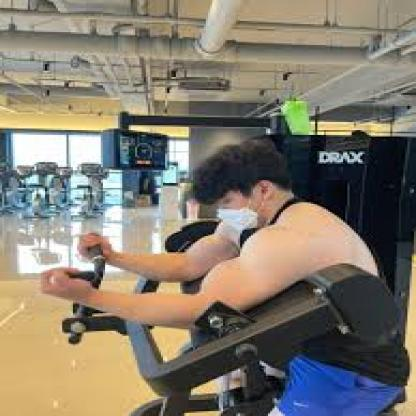arm curl machine: (62, 230, 416, 416)
